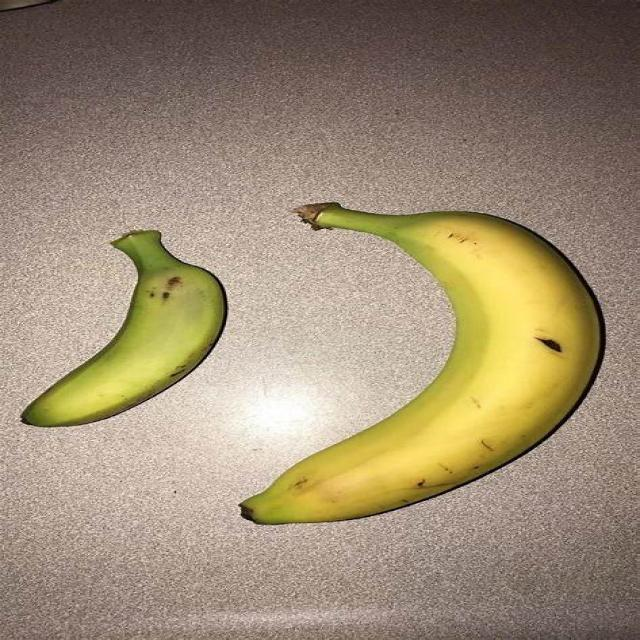Banana: (258, 198, 610, 545), (28, 228, 235, 431)
